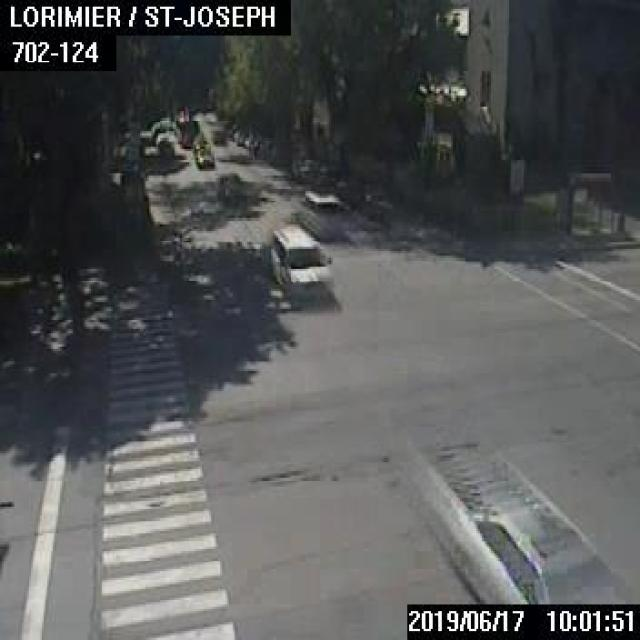vehicle: (446, 494, 638, 604), (270, 224, 333, 303), (295, 188, 338, 236), (172, 116, 198, 147), (195, 148, 212, 168), (232, 128, 244, 144)
